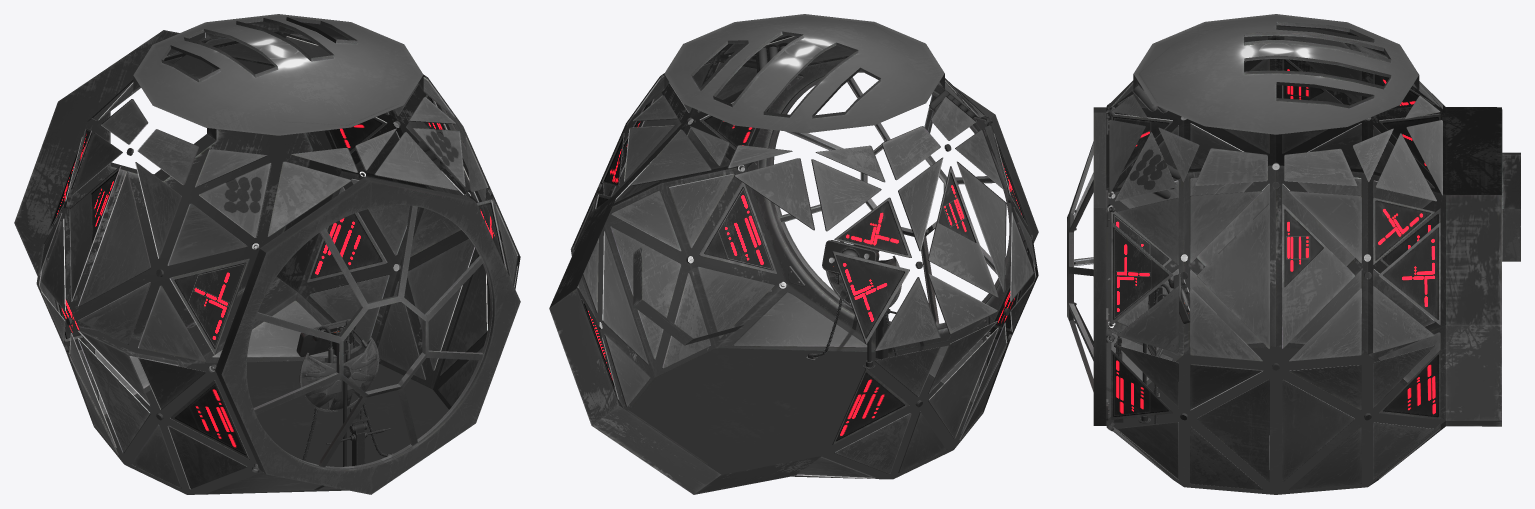
3 renders of one model, left to right at view 1: azimuth 30°, elevation 25°; view 2: azimuth 150°, elevation 25°; view 3: azimuth 270°, elevation 25°, orthographic. The views are drawn at different scales.
Visible parts, largest first — view 1: triangles, hull, hatch, canopy_brace, floor, triangles_lights, canopy_struts, detail_metal_painted_grey, detail_metal_painted_black, detail_metal_shiny, detail_pipes; view 2: triangles, hull, floor, hatch, triangles_lights, canopy_brace, canopy_struts, detail_metal_painted_black, canopy_struts_insets, sensors, brackets, detail_metal_painted_grey; view 3: triangles, hull, hatch, triangles_lights, floor, canopy_brace, canopy_struts, detail_metal_painted_black, sensors, bolts_hull.
Boxes of the visible parts, box(x1,y1,x2,y2) form: triangles: box(39, 33, 518, 494); hull: box(14, 21, 520, 494); hatch: box(133, 14, 423, 135); canopy_brace: box(215, 177, 520, 494); floor: box(94, 361, 448, 494); triangles_lights: box(51, 96, 504, 455); canopy_struts: box(253, 205, 492, 469); detail_metal_painted_grey: box(299, 337, 379, 412); detail_metal_painted_black: box(326, 330, 390, 466); detail_metal_shiny: box(296, 319, 393, 455); detail_pipes: box(302, 320, 387, 460); triangles: box(573, 34, 1036, 478); hull: box(549, 35, 1038, 494); floor: box(629, 348, 982, 479); hatch: box(664, 14, 944, 133); triangles_lights: box(584, 103, 1024, 441); canopy_brace: box(744, 58, 1038, 352); canopy_struts: box(767, 70, 1011, 328); detail_metal_painted_black: box(823, 241, 896, 369); canopy_struts_insets: box(780, 80, 995, 322); sensors: box(756, 46, 976, 117); brackets: box(748, 75, 1024, 330); detail_metal_painted_grey: box(825, 255, 901, 308); triangles: box(1109, 36, 1442, 489); hull: box(1106, 25, 1520, 487); hatch: box(1133, 14, 1418, 134); triangles_lights: box(1113, 60, 1438, 417); floor: box(1106, 347, 1445, 494); canopy_brace: box(1093, 107, 1106, 425); canopy_struts: box(1067, 141, 1093, 391); detail_metal_painted_black: box(1114, 278, 1189, 423); sensors: box(1132, 83, 1180, 199); bolts_hull: box(1180, 116, 1371, 420).
Bounding box in the file's own units: 2.56 × 2.2 × 2.42.
21 materials, 21 textured.
